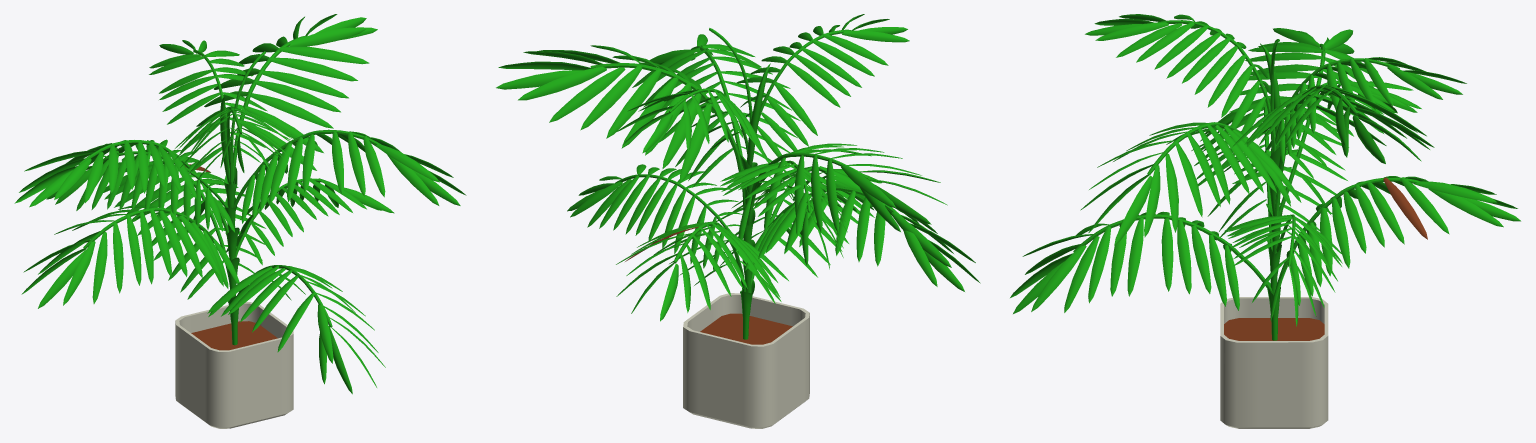
Rendered from Plant_02.obj.
The picture shows the model from 3 angles, left to right: view 1: azimuth 30°, elevation 25°; view 2: azimuth 150°, elevation 25°; view 3: azimuth 270°, elevation 25°; orthographic projection. The views are drawn at different scales.
Visible parts, largest first — view 1: Object135, Object136, Object181, Object182, Object183, Object184, Object185, Object165, cap4__1_0, Object69, Object70, Object186 (+31 smaller); view 2: Object135, Object136, Object177, Object176, cap2__1_0, Object175, Object174, Object170, Object178, Object171, Object173, Object56 (+20 smaller); view 3: Object135, Object136, cap2__3_0, Object43, Object42, Object39, Object41, Object219, Object36, Object100, Object85, Object37 (+34 smaller).
Part boxes in pixels (x1,y1,x2,y2): Object135: (175, 302, 293, 428); Object136: (191, 321, 277, 350); Object181: (279, 46, 369, 64); Object182: (269, 57, 357, 81); Object183: (262, 70, 348, 98); Object184: (254, 80, 340, 112); Object185: (250, 93, 333, 128); Object165: (289, 27, 365, 46); cap4__1_0: (233, 130, 380, 207); Object69: (92, 232, 107, 303); Object70: (63, 241, 95, 305); Object186: (244, 106, 323, 152); Object135: (683, 293, 809, 428); Object136: (700, 313, 792, 344); Object177: (518, 66, 606, 100); Object176: (549, 67, 625, 122); cap2__1_0: (590, 63, 746, 211); Object175: (580, 65, 642, 130); Object174: (606, 68, 661, 138); Object170: (679, 103, 711, 183); Object178: (496, 70, 582, 89); Object171: (662, 93, 701, 168); Object173: (621, 77, 678, 148); Object56: (747, 63, 770, 166); Object135: (1220, 297, 1328, 428); Object136: (1224, 318, 1324, 340); cap2__3_0: (1073, 214, 1273, 295); Object43: (1031, 245, 1086, 311); Object42: (1064, 236, 1099, 312); Object39: (1127, 218, 1143, 296); Object41: (1088, 226, 1111, 303); Object219: (1114, 175, 1152, 245); Object36: (1177, 220, 1191, 294); Object100: (1428, 189, 1503, 227); Object85: (1415, 181, 1497, 202); Object37: (1161, 218, 1173, 291).
Size of the model in its own units: 4.25 by 3.61 by 4.3.
